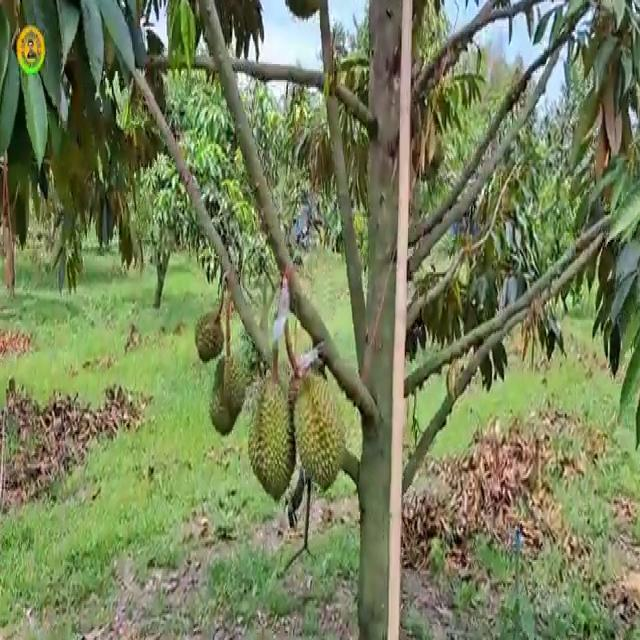durian: (283, 367, 350, 498), (246, 372, 298, 507), (207, 353, 248, 440), (193, 310, 226, 365)
